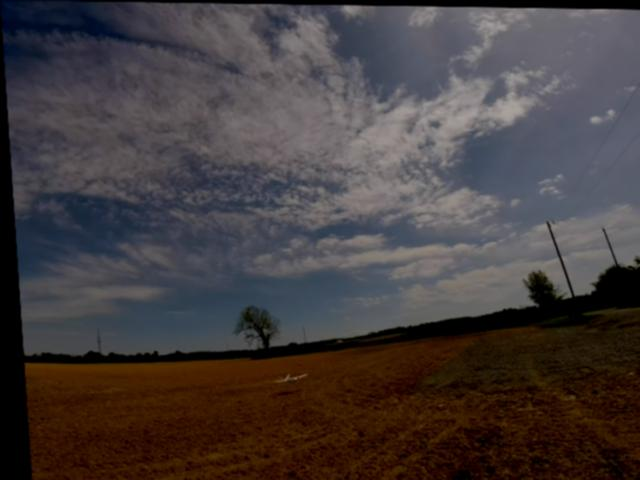plane: (268, 371, 303, 386)
